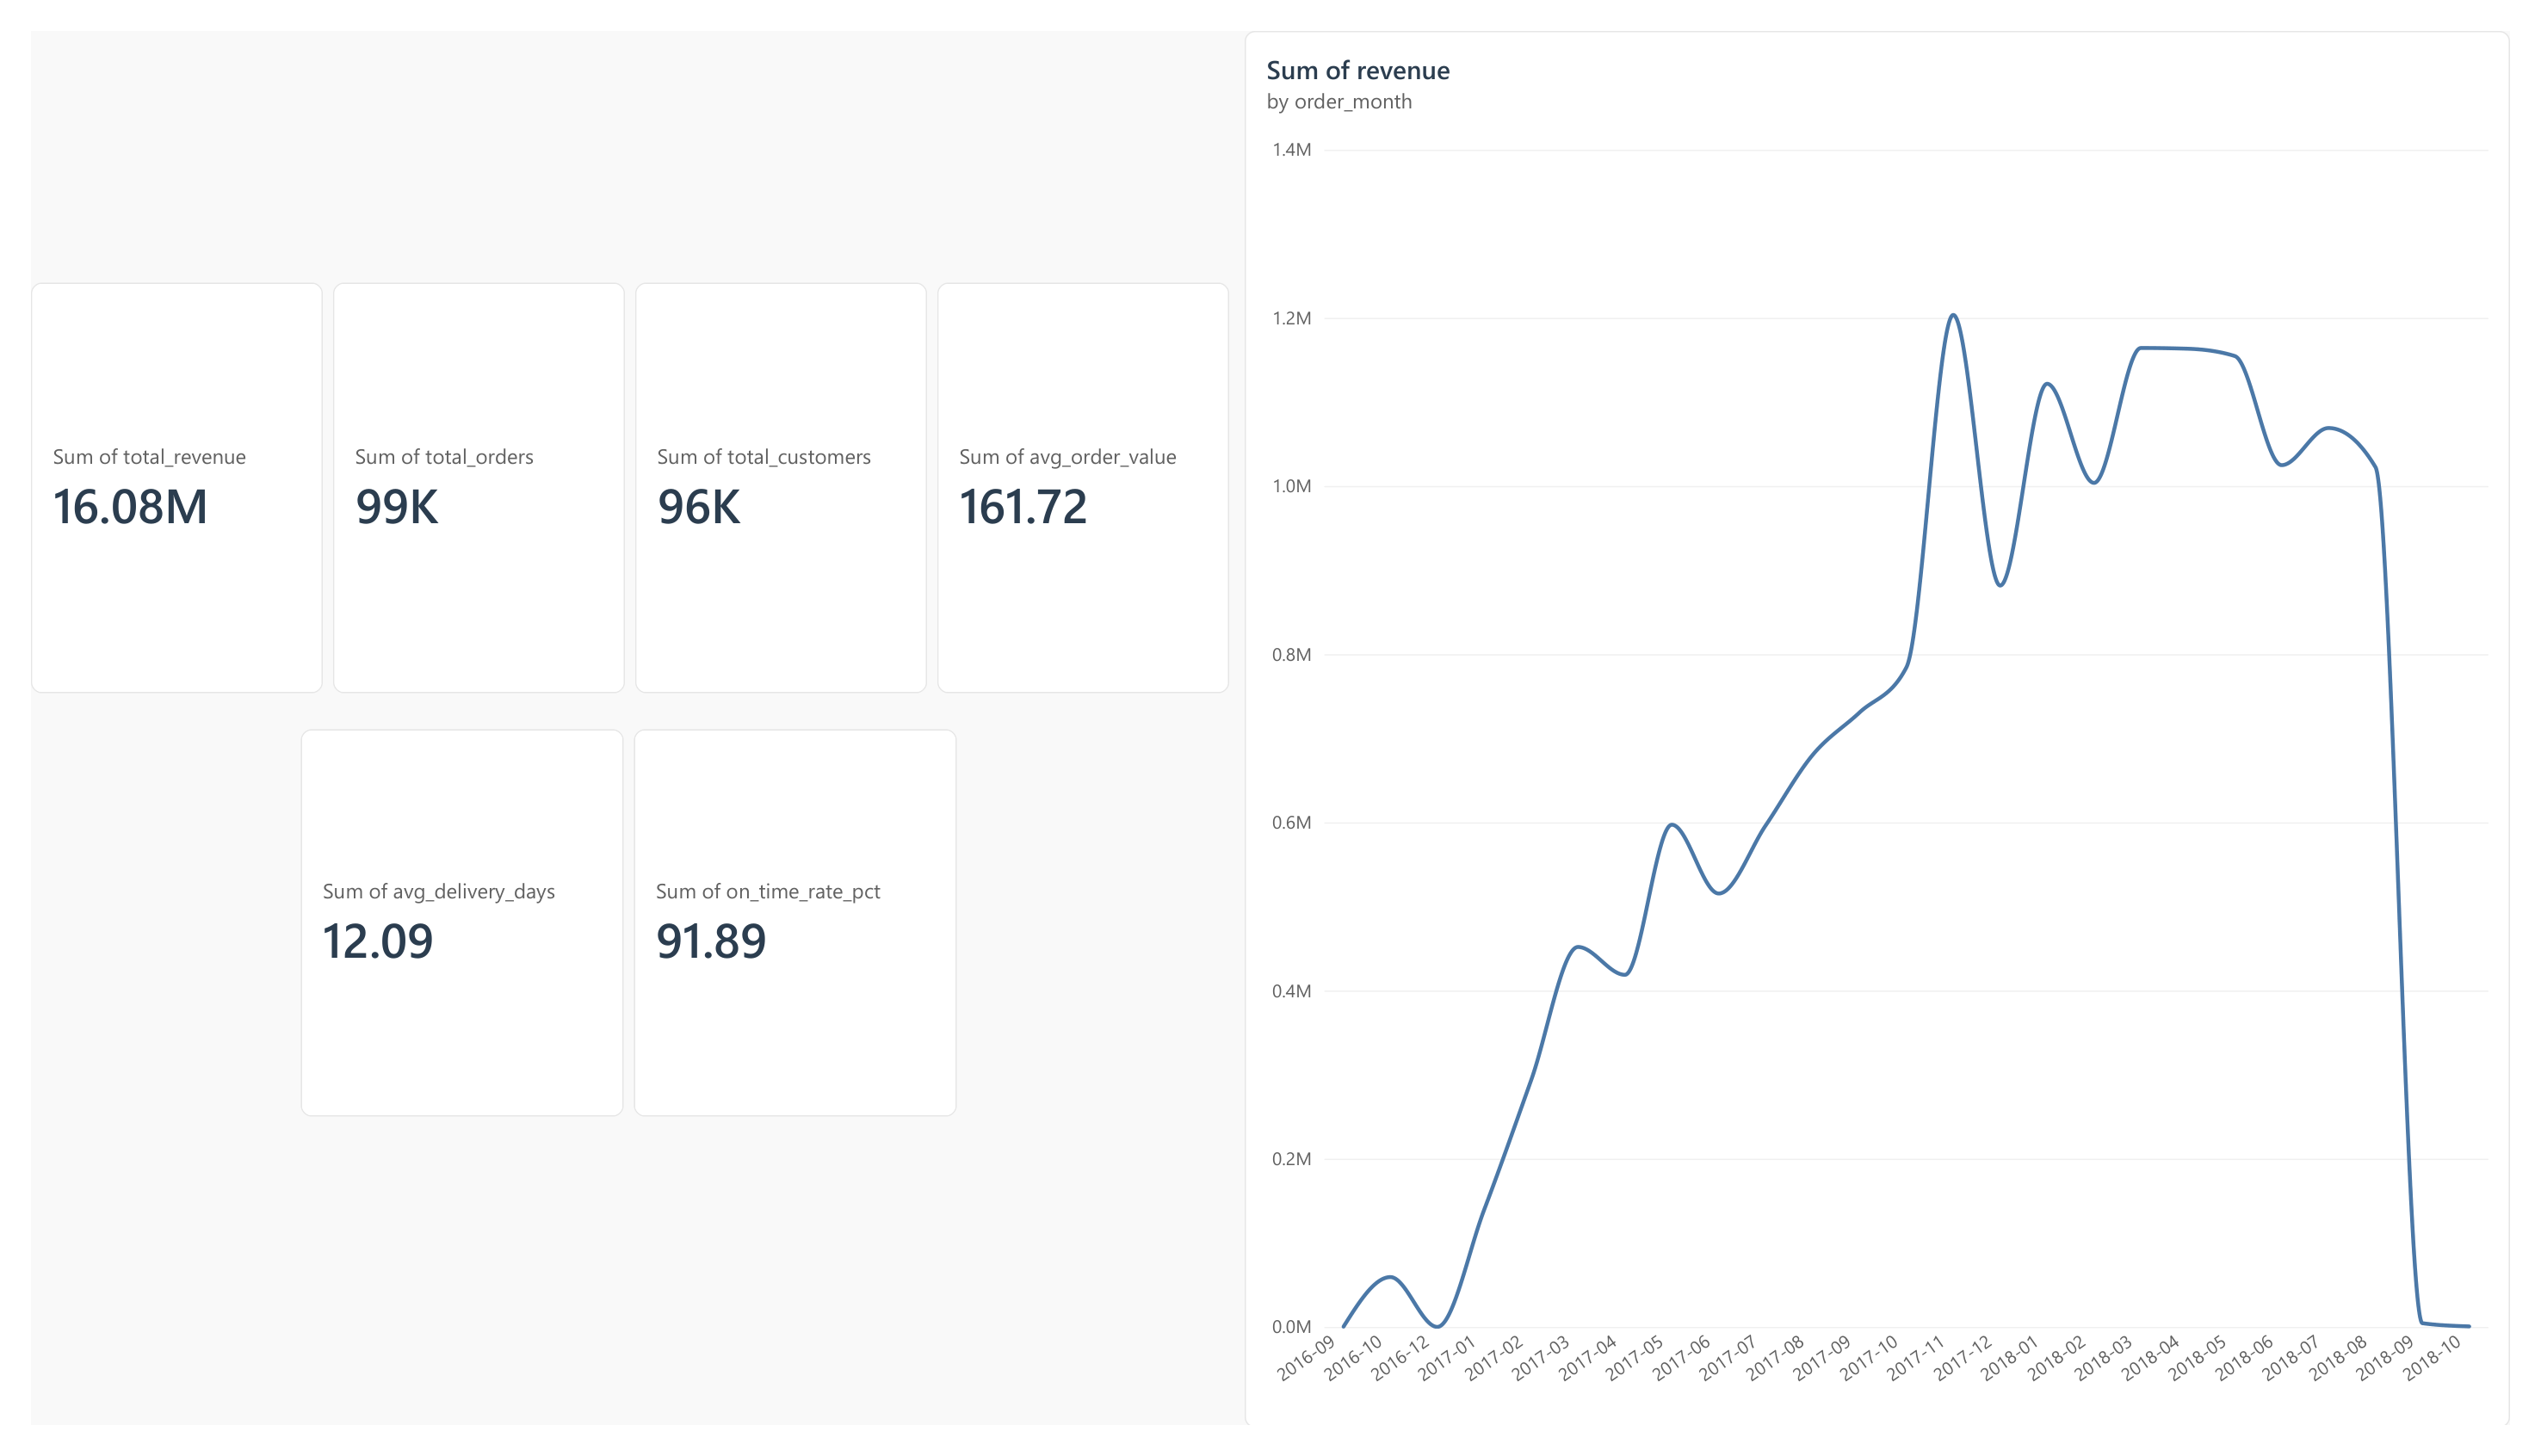

Layout of this report page (visuals, bound fields, positions):
{"tool":"powerbi","page":{"name":"Executive Overview","canvas":[1920,1080],"ordinal":0},"visuals":[{"type":"cardVisual","fields":{"Data":["Sum(kpi_summary.total_revenue)","Sum(kpi_summary.total_orders)","Sum(kpi_summary.total_customers)","Sum(kpi_summary.avg_order_value)"]},"box":[0,195.4,929.8,318],"z":0},{"type":"lineChart","fields":{"Category":["monthly_revenue.order_month.Variation.Date Hierarchy.Month"],"Y":["Sum(monthly_revenue.revenue)"]},"box":[939.9,0,980.5,1081.8],"z":1000},{"type":"cardVisual","fields":{"Data":["Sum(delivery_performance.avg_delivery_days)","Sum(delivery_performance.on_time_rate_pct)"]},"box":[208.7,541,508.5,299.8],"z":5000}]}

Visuals, with their boxes in screenshot pixels (x1, y1, x2, y2), scaled from the page's 1920x1080 canvas onto the 2541x1456 screenshot:
cardVisual - Sum(kpi_summary.total_revenue) x Sum(kpi_summary.total_orders): rect(0, 263, 1231, 692)
lineChart - monthly_revenue.order_month.Variation.Date Hierarchy.Month x Sum(monthly_revenue.revenue): rect(1244, 0, 2540, 1455)
cardVisual - Sum(delivery_performance.avg_delivery_days) x Sum(delivery_performance.on_time_rate_pct): rect(276, 730, 949, 1133)
